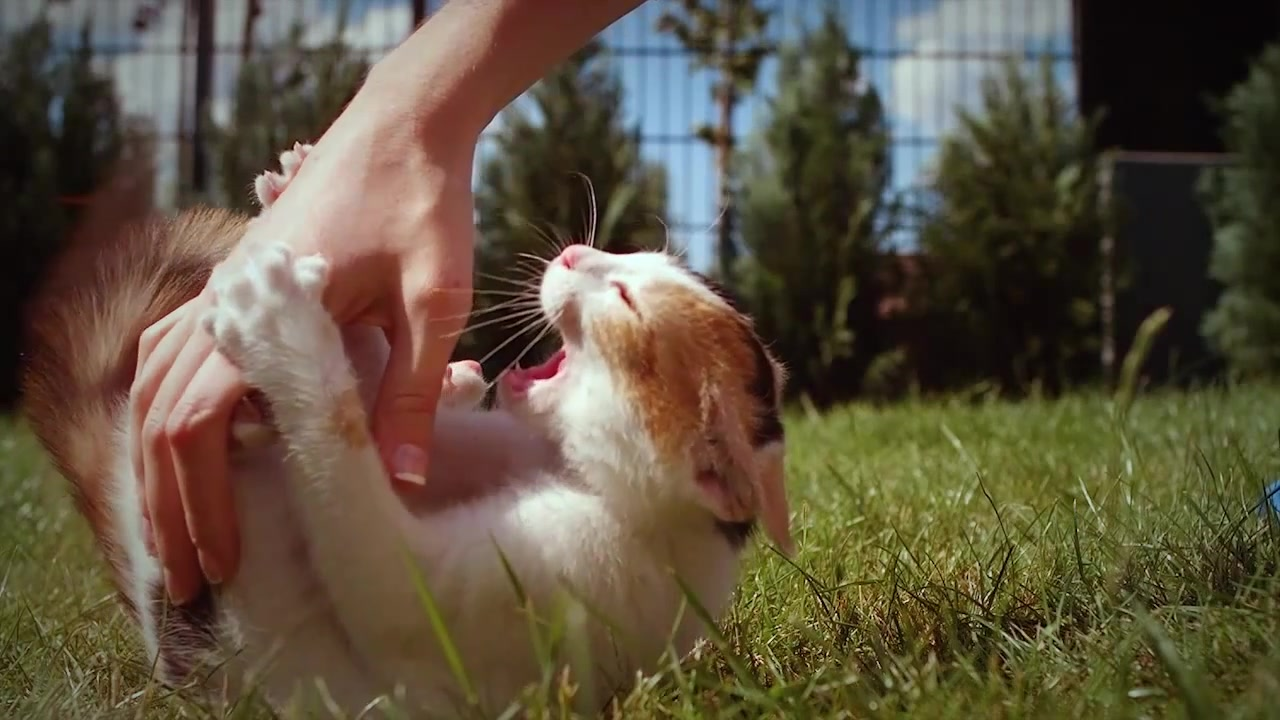cat: (26, 140, 799, 720)
